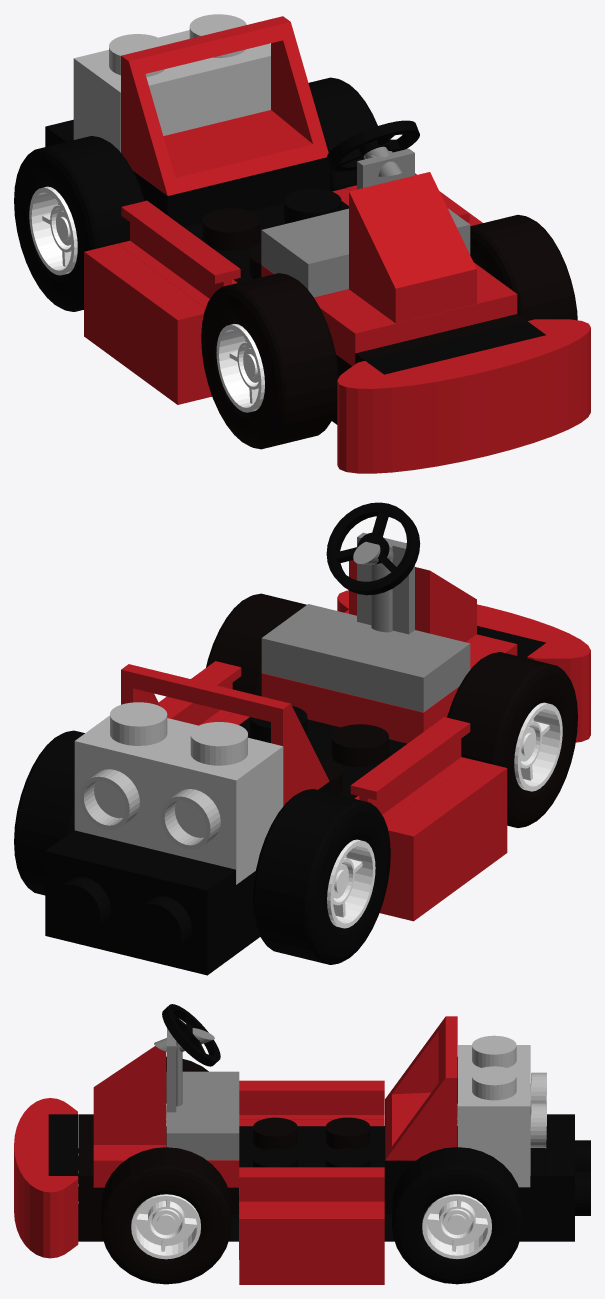
File: kart_color_v2.fbx
The picture shows the model from 3 angles, top to bottom: view 1: azimuth 30°, elevation 25°; view 2: azimuth 150°, elevation 25°; view 3: azimuth 270°, elevation 25°; orthographic projection. The views are drawn at different scales.
Visible parts, largest first — view 1: Cylinder, spoiler, Cylinder.085, body l, Cylinder.072, test 1x2 plate.012, Cylinder.089, 1x1.005, test 1x2 plate.009, test 1x2 plate.013, test 1x2 plate.015, 1x1.002 (+17 smaller); view 2: Cylinder.072, test 1x2 plate.013, body l, test 1x2 plate.008, Cylinder.085, 1x1.005, 1x1.002, spoiler, Cylinder.076, test 1x2 plate.010, Cylinder, Cylinder.089 (+28 smaller); view 3: body l.001, Cylinder.076, Cylinder.089, spoiler, Cylinder, test 1x2 plate.013, 1x1.002, test 1x2 plate.012, test 1x2 plate.008, test 1x2 plate.004, test 1x2 plate.001, test 1x2 plate.005 (+37 smaller).
Boxes of the visible parts, x1,y1,x2,y2 form: Cylinder: (337,319,590,473); spoiler: (121,16,328,195); Cylinder.085: (201,273,338,449); body l: (84,243,210,404); Cylinder.072: (14,136,144,311); test 1x2 plate.012: (349,172,476,288); Cylinder.089: (470,214,577,320); 1x1.005: (73,50,201,152); test 1x2 plate.009: (314,262,517,366); test 1x2 plate.013: (261,208,470,297); test 1x2 plate.015: (133,157,329,226); 1x1.002: (159,30,270,126); Cylinder.072: (253,789,390,964); test 1x2 plate.013: (261,604,470,712); body l: (380,760,507,921); test 1x2 plate.008: (45,837,226,975); Cylinder.085: (447,652,577,827); 1x1.005: (155,735,283,884); 1x1.002: (74,715,197,849); spoiler: (121,664,329,805); Cylinder.076: (14,730,84,895); test 1x2 plate.010: (261,673,459,743); Cylinder: (337,590,590,742); Cylinder.089: (206,593,306,696); body l.001: (239,1206,384,1284); Cylinder.076: (392,1147,522,1284); Cylinder.089: (101,1147,231,1284); spoiler: (385,1016,457,1160); Cylinder: (14,1098,78,1258); test 1x2 plate.013: (166,1071,239,1160); 1x1.002: (458,1075,530,1187); test 1x2 plate.012: (93,1046,166,1117); test 1x2 plate.008: (545,1114,574,1241); test 1x2 plate.004: (239,1097,384,1114); test 1x2 plate.001: (239,1080,384,1097); test 1x2 plate.005: (239,1184,384,1201).
Size of the model in its own units: 0.6327 by 0.5228 by 1.24.
